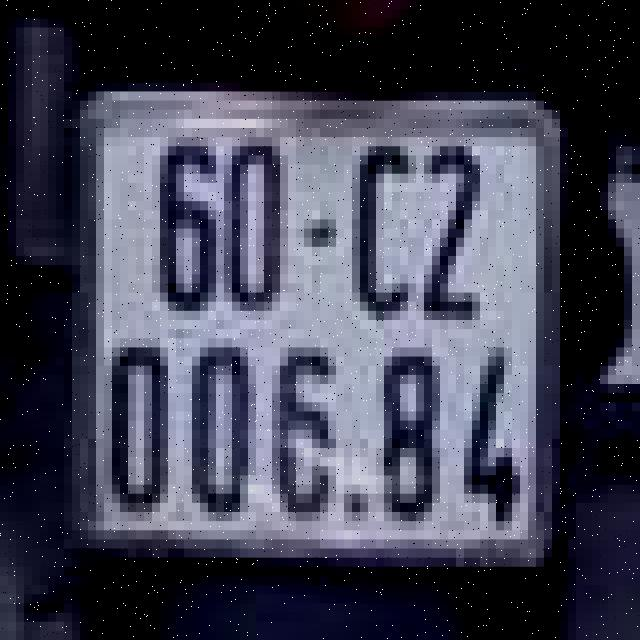0: (180, 324, 252, 516), (216, 133, 288, 306), (104, 338, 168, 512)
2: (408, 142, 496, 334)
4: (464, 338, 528, 530)
6: (260, 329, 340, 521), (152, 132, 224, 343)
8: (360, 343, 440, 516)
C: (352, 137, 416, 320)
